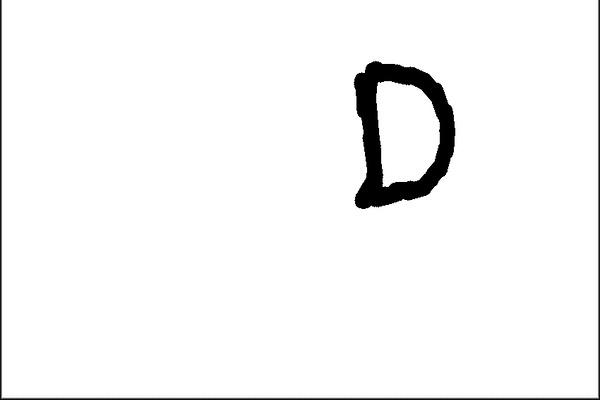D: (346, 59, 463, 214)
